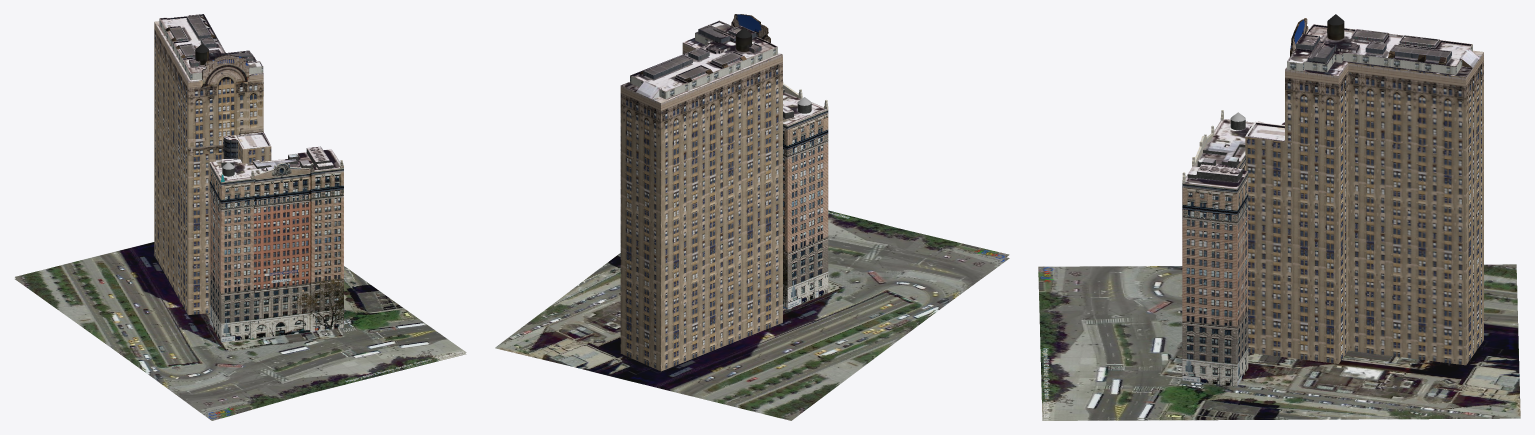
The model's file is ddddddd.fbx.
3 renders of one model, left to right at view 1: azimuth 30°, elevation 25°; view 2: azimuth 150°, elevation 25°; view 3: azimuth 270°, elevation 25°, orthographic. The views are drawn at different scales.
Parts seen in each view (by area): view 1: Whitehall_Building1, Google_Earth_Snapshot, Google_Earth_Terrain; view 2: Whitehall_Building1, Google_Earth_Snapshot, Google_Earth_Terrain; view 3: Whitehall_Building1, Google_Earth_Terrain, Google_Earth_Snapshot.
Part boxes in pixels (x1,y1,x2,y2): Whitehall_Building1: [154, 14, 343, 342]; Google_Earth_Snapshot: [15, 242, 466, 417]; Google_Earth_Terrain: [15, 266, 466, 420]; Whitehall_Building1: [620, 14, 828, 371]; Google_Earth_Snapshot: [495, 228, 1009, 418]; Google_Earth_Terrain: [495, 210, 1009, 420]; Whitehall_Building1: [1182, 14, 1483, 386]; Google_Earth_Terrain: [1038, 274, 1520, 418]; Google_Earth_Snapshot: [1038, 264, 1520, 420].
Bounding box in the file's own units: 5494 × 5287 × 7154.
